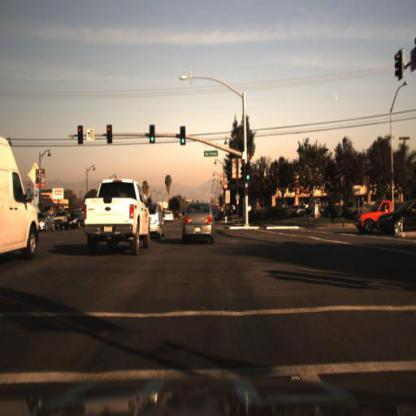car: (68, 165, 152, 262), (0, 135, 42, 281), (177, 194, 221, 250), (376, 199, 416, 239), (10, 188, 37, 230), (354, 200, 377, 236), (64, 209, 88, 232), (52, 205, 69, 232), (162, 204, 178, 223)
trafficLight: (104, 119, 112, 146)
trafficLight-Green: (174, 124, 188, 157), (147, 124, 155, 148), (244, 166, 251, 193)
trafficLight-RedLeft: (74, 120, 84, 147)
